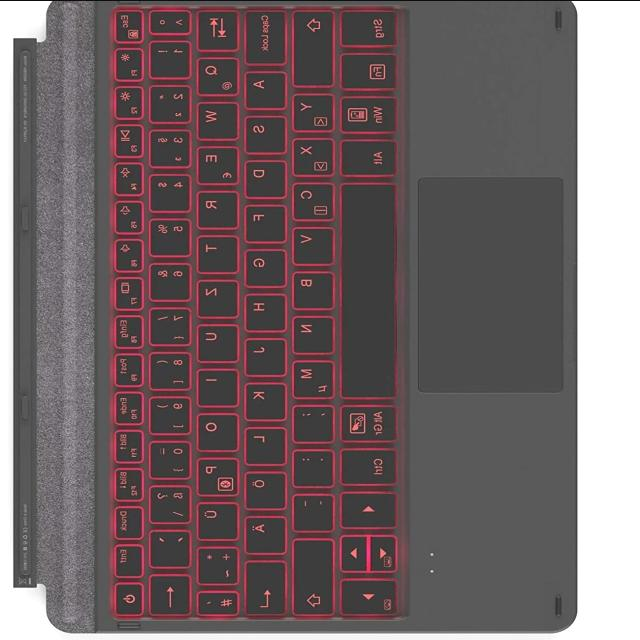0: (146, 437, 188, 477)
1: (146, 38, 188, 76)
2: (146, 81, 188, 121)
3: (146, 126, 188, 166)
4: (146, 171, 188, 209)
5: (146, 214, 188, 254)
6: (146, 259, 188, 299)
7: (147, 304, 189, 343)
8: (146, 348, 189, 387)
9: (147, 393, 189, 432)
a: (242, 68, 284, 106)
accent: (146, 527, 188, 565)
ae: (242, 512, 284, 552)
alt-left: (337, 137, 397, 175)
altgr-right: (338, 402, 396, 440)
b: (290, 268, 332, 308)
c: (290, 179, 332, 219)
caret: (147, 7, 189, 33)
comma: (289, 401, 331, 440)
d: (242, 157, 284, 196)
del: (146, 572, 188, 614)
e: (194, 142, 237, 182)
enter: (241, 560, 283, 614)
f: (241, 202, 283, 240)
g: (242, 246, 284, 284)
h: (242, 291, 284, 329)
hash: (193, 589, 237, 615)
i: (194, 366, 236, 404)
j: (242, 334, 284, 373)
k: (242, 380, 284, 418)
keyboard: (91, 0, 409, 627)
l: (242, 424, 284, 462)
m: (289, 356, 333, 396)
minus: (290, 489, 332, 529)
n: (290, 313, 332, 351)
o: (194, 409, 236, 449)
oe: (242, 468, 284, 506)
p: (194, 454, 237, 494)
plus: (194, 544, 236, 583)
point: (289, 445, 331, 485)
q: (194, 53, 237, 93)
r: (194, 188, 236, 226)
s: (242, 112, 284, 152)
shift-left: (289, 8, 332, 84)
shift-lock: (242, 7, 284, 62)
shift-right: (289, 537, 331, 615)
space: (337, 180, 396, 398)
ss: (145, 481, 189, 521)
strg-left: (336, 6, 397, 46)
strg-right: (337, 445, 397, 484)
t: (194, 232, 236, 270)
tab: (193, 7, 237, 49)
u: (194, 321, 237, 359)
ue: (194, 498, 237, 538)
v: (290, 224, 332, 264)
w: (193, 99, 236, 137)
x: (290, 135, 332, 174)
y: (290, 91, 332, 130)
z: (194, 277, 236, 316)
